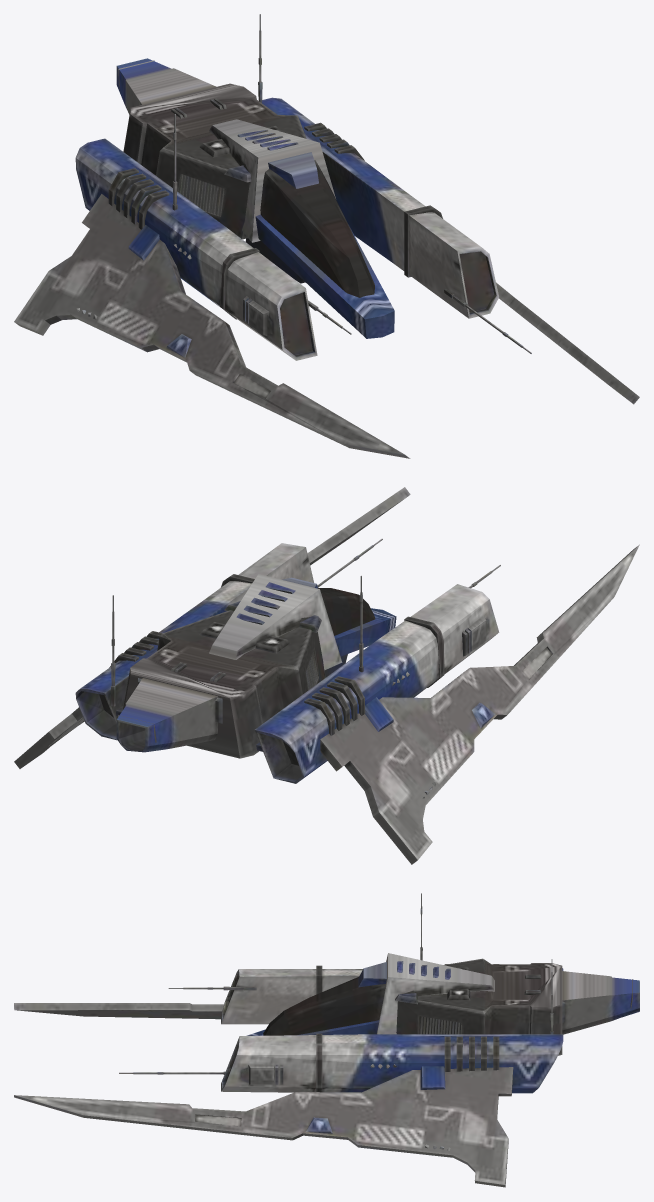
Rendered from wraith-blue.glb.
3 renders of one model, top to bottom at view 1: azimuth 30°, elevation 25°; view 2: azimuth 150°, elevation 25°; view 3: azimuth 270°, elevation 25°, orthographic. The views are drawn at different scales.
Visible parts, largest first — view 1: Striker; view 2: Striker; view 3: Striker.
Boxes of the visible parts, x1,y1,x2,y2 form: Striker: [14, 14, 639, 458]; Striker: [14, 487, 639, 864]; Striker: [14, 893, 639, 1187].
Bounding box in the file's own units: 5.03 × 2.68 × 8.43.
Materials: 1 (1 with a texture image).
